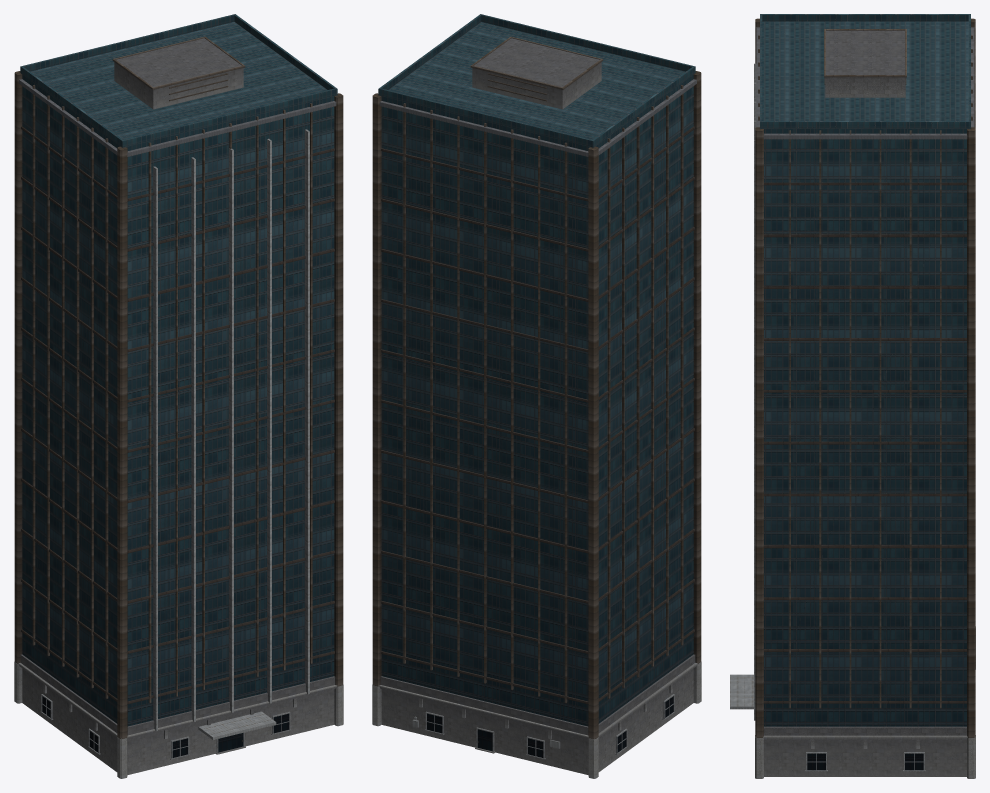
The model's file is griswold-exchange_lod0.gltf.
3 views of the same model, side by side, from view 1: azimuth 30°, elevation 25°; view 2: azimuth 150°, elevation 25°; view 3: azimuth 270°, elevation 25° (orthographic). The views are drawn at different scales.
Visible parts, largest first — view 1: griswold-exchange_upper, griswold-exchange__v4_metal_detail, griswold-exchange__v4_stone_detail, griswold-exchange_base, griswold-exchange__fin_d, griswold-exchange__fin_e, griswold-exchange__fin_a, griswold-exchange__fin_b, griswold-exchange__fin_c, griswold-exchange__cornice, griswold-exchange__parapet_front, griswold-exchange__parapet_back (+5 smaller); view 2: griswold-exchange_upper, griswold-exchange__v4_metal_detail, griswold-exchange__v4_stone_detail, griswold-exchange_base, griswold-exchange__cornice, griswold-exchange__parapet_back, griswold-exchange__parapet_front, griswold-exchange_fen_07-glass-curtain-blue_1_t, griswold-exchange_fen_14-steel-panel_0, griswold-exchange__parapet_left, griswold-exchange__parapet_right; view 3: griswold-exchange_upper, griswold-exchange__v4_metal_detail, griswold-exchange__v4_stone_detail, griswold-exchange_base, griswold-exchange__cornice, griswold-exchange__parapet_left, griswold-exchange__parapet_right, griswold-exchange__fin_e, griswold-exchange__canopy, griswold-exchange_fen_07-glass-curtain-blue_1_t.
Part boxes in pixels (bbox=[...]): griswold-exchange_upper: bbox=[22, 22, 334, 726]; griswold-exchange__v4_metal_detail: bbox=[14, 36, 343, 738]; griswold-exchange__v4_stone_detail: bbox=[14, 38, 343, 778]; griswold-exchange_base: bbox=[22, 668, 334, 775]; griswold-exchange__fin_d: bbox=[267, 138, 271, 703]; griswold-exchange__fin_e: bbox=[305, 129, 309, 694]; griswold-exchange__fin_a: bbox=[153, 166, 157, 731]; griswold-exchange__fin_b: bbox=[191, 157, 195, 721]; griswold-exchange__fin_c: bbox=[229, 148, 233, 712]; griswold-exchange__cornice: bbox=[19, 79, 336, 156]; griswold-exchange__parapet_front: bbox=[121, 88, 337, 147]; griswold-exchange__parapet_back: bbox=[20, 14, 235, 73]; griswold-exchange_upper: bbox=[381, 22, 693, 726]; griswold-exchange__v4_metal_detail: bbox=[372, 36, 701, 738]; griswold-exchange__v4_stone_detail: bbox=[372, 38, 701, 778]; griswold-exchange_base: bbox=[381, 668, 693, 775]; griswold-exchange__cornice: bbox=[379, 79, 696, 156]; griswold-exchange__parapet_back: bbox=[378, 88, 594, 147]; griswold-exchange__parapet_front: bbox=[480, 14, 695, 73]; griswold-exchange_fen_07-glass-curtain-blue_1_t: bbox=[427, 696, 673, 757]; griswold-exchange_fen_14-steel-panel_0: bbox=[412, 694, 675, 759]; griswold-exchange__parapet_left: bbox=[593, 67, 694, 146]; griswold-exchange__parapet_right: bbox=[380, 15, 481, 89]; griswold-exchange_upper: bbox=[762, 21, 968, 726]; griswold-exchange__v4_metal_detail: bbox=[755, 18, 975, 737]; griswold-exchange__v4_stone_detail: bbox=[755, 30, 975, 778]; griswold-exchange_base: bbox=[764, 740, 966, 776]; griswold-exchange__cornice: bbox=[756, 27, 974, 139]; griswold-exchange__parapet_left: bbox=[762, 14, 968, 21]; griswold-exchange__parapet_right: bbox=[762, 121, 968, 128]; griswold-exchange__fin_e: bbox=[754, 140, 755, 720]; griswold-exchange__canopy: bbox=[730, 674, 753, 709]; griswold-exchange_fen_07-glass-curtain-blue_1_t: bbox=[807, 753, 923, 770].
Size of the model in its own units: 35.36 by 98.3 by 32.68.
